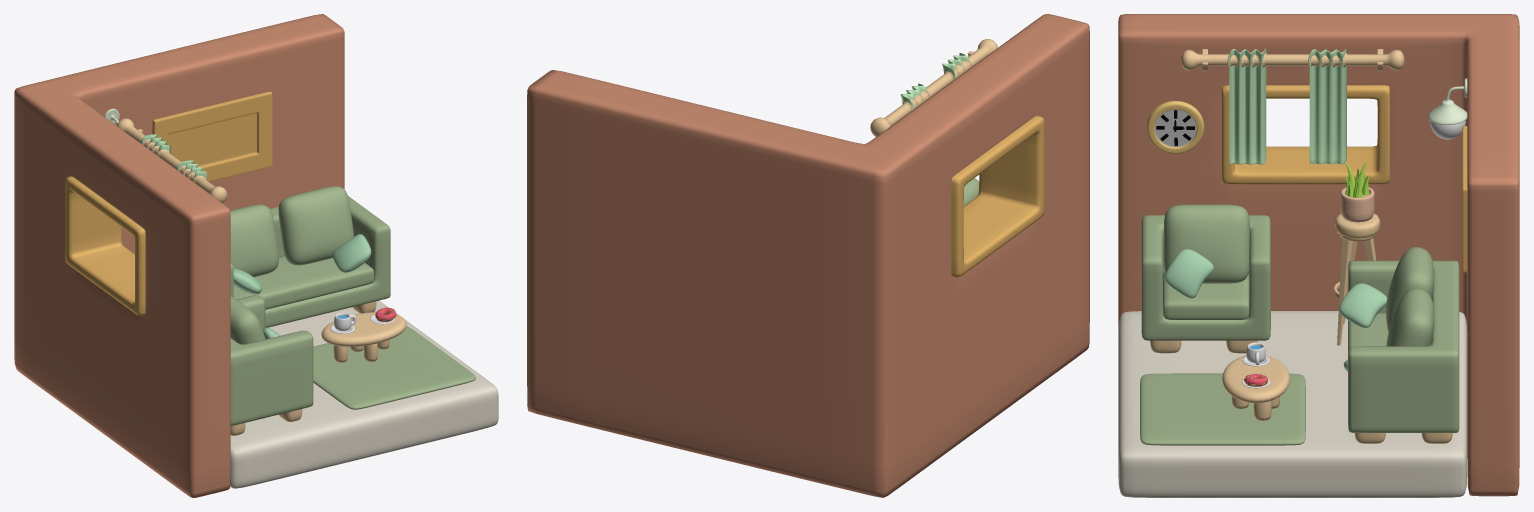
The picture shows the model from 3 angles, left to right: view 1: azimuth 30°, elevation 25°; view 2: azimuth 150°, elevation 25°; view 3: azimuth 270°, elevation 25°; orthographic projection. The views are drawn at different scales.
Parts seen in each view (by area): view 1: Wall, Floor, Double Sofa, Carpet, Frame, Window, Single Sofa, Cube.004, Cube.003, Coffe Table, Cube.007, Tag (+2 smaller); view 2: Wall, Window, Tag; view 3: Wall, Floor, Double Sofa, Single Sofa, Carpet, Window, Cube.007, Cartain, Cartain 1, Cube.004, Clock, Tag (+12 smaller).
Boxes of the visible parts, box(x1,y1,x2,y2) form: Wall: box(14, 14, 344, 497); Floor: box(230, 300, 498, 488); Double Sofa: box(230, 196, 390, 327); Carpet: box(313, 326, 475, 409); Frame: box(152, 91, 272, 181); Window: box(65, 176, 145, 315); Single Sofa: box(230, 295, 313, 425); Cube.004: box(278, 186, 353, 265); Cube.003: box(230, 204, 278, 277); Coffe Table: box(321, 312, 406, 346); Cube.007: box(230, 296, 265, 344); Tag: box(117, 118, 227, 203); Wall: box(527, 14, 1089, 497); Window: box(951, 115, 1044, 277); Tag: box(870, 39, 997, 136); Wall: box(1118, 14, 1519, 496); Floor: box(1118, 311, 1467, 497); Double Sofa: box(1348, 260, 1459, 432); Single Sofa: box(1141, 215, 1270, 340); Carpet: box(1140, 373, 1305, 445); Window: box(1221, 85, 1389, 184); Cube.007: box(1163, 204, 1249, 283); Cartain: box(1229, 48, 1266, 164); Cartain 1: box(1309, 49, 1346, 164); Cube.004: box(1386, 288, 1434, 346); Clock: box(1146, 101, 1204, 154); Tag: box(1181, 49, 1404, 70).
Size of the model in its own units: 8.86 by 7.64 by 8.68.
